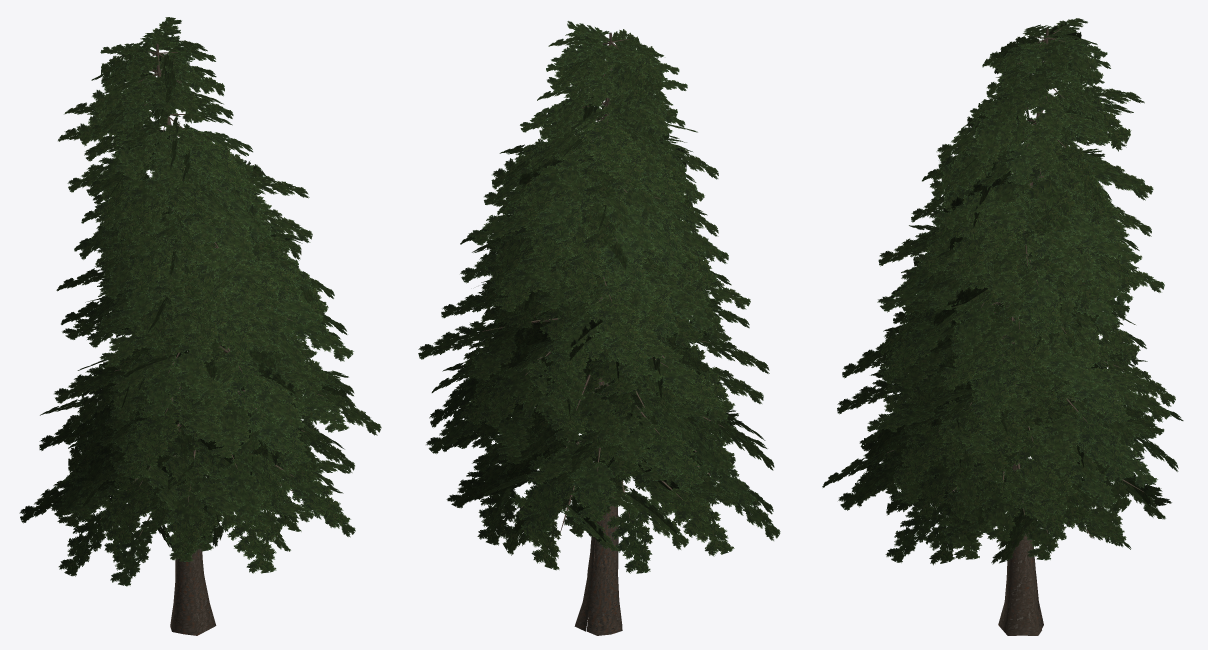
File: tree_v6_pine_healthy_autumn.glb
3 renders of one model, left to right at view 1: azimuth 30°, elevation 25°; view 2: azimuth 150°, elevation 25°; view 3: azimuth 270°, elevation 25°, orthographic. The views are drawn at different scales.
Visible parts, largest first — view 1: tree_v6_pine_healthy_autumn_LOD0; view 2: tree_v6_pine_healthy_autumn_LOD0; view 3: tree_v6_pine_healthy_autumn_LOD0.
Part boxes in pixels (x1,y1,x2,y2): tree_v6_pine_healthy_autumn_LOD0: [19, 17, 381, 635]; tree_v6_pine_healthy_autumn_LOD0: [418, 21, 780, 635]; tree_v6_pine_healthy_autumn_LOD0: [822, 18, 1183, 635].
Size of what is drawn, in the model's own units: 7.92 by 14.46 by 8.23.
1 material, 1 textured.
